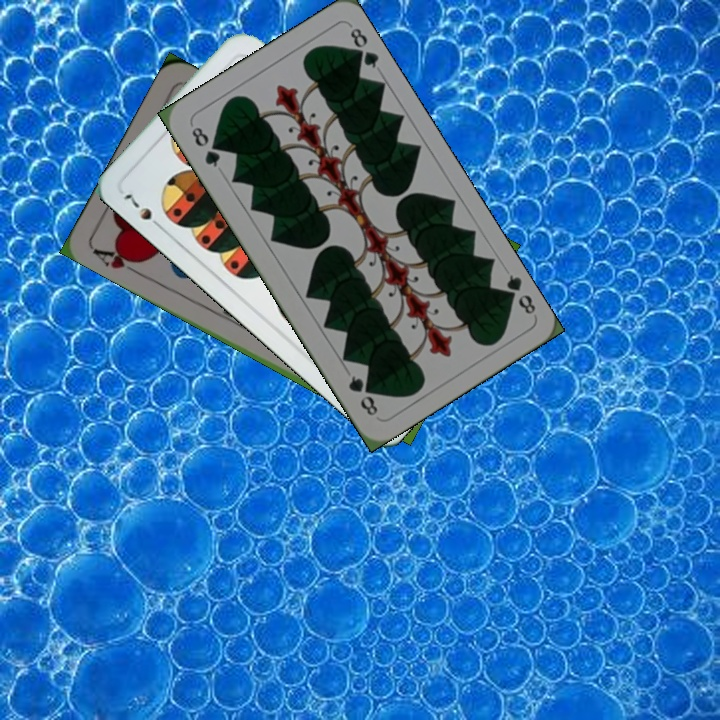G8: (497, 270, 539, 317), (187, 122, 223, 170)
HA: (88, 243, 146, 279)
S7: (119, 189, 166, 233)
